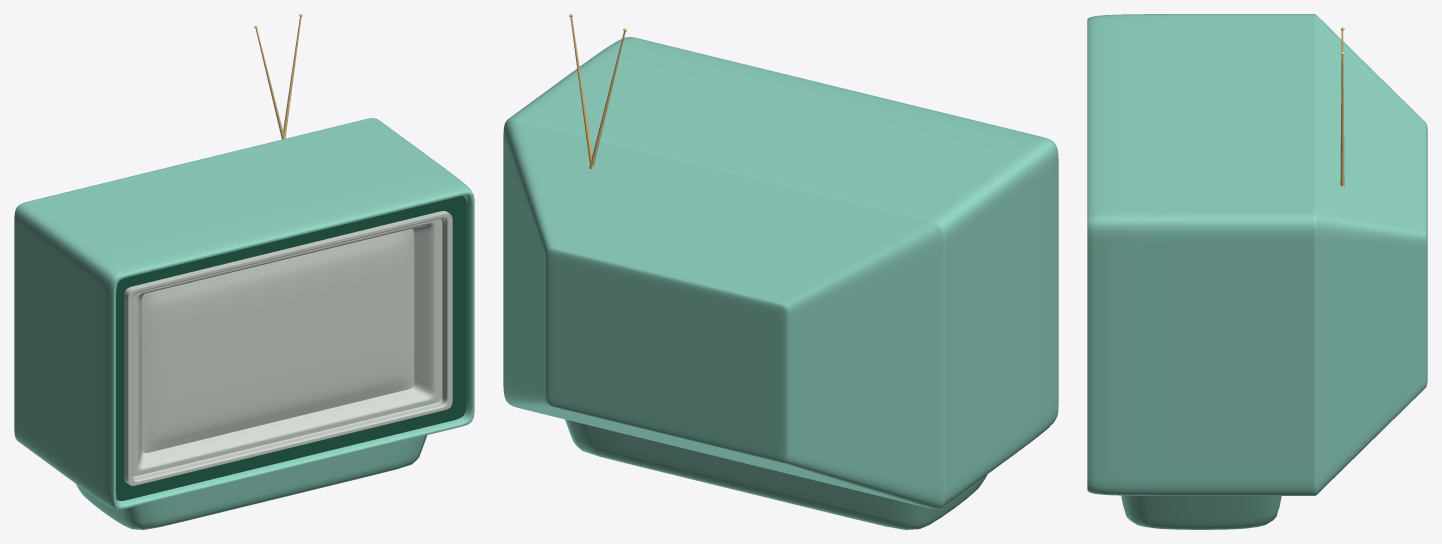
3 views of the same model, side by side, from view 1: azimuth 30°, elevation 25°; view 2: azimuth 150°, elevation 25°; view 3: azimuth 270°, elevation 25° (orthographic). The views are drawn at different scales.
Parts seen in each view (by area): view 1: Cube; view 2: Cube; view 3: Cube.
Boxes of the visible parts, x1,y1,x2,y2 form: Cube: (14, 14, 474, 529); Cube: (503, 14, 1058, 529); Cube: (1087, 14, 1427, 529).
Bounding box in the file's own units: 435 × 447 × 298.
